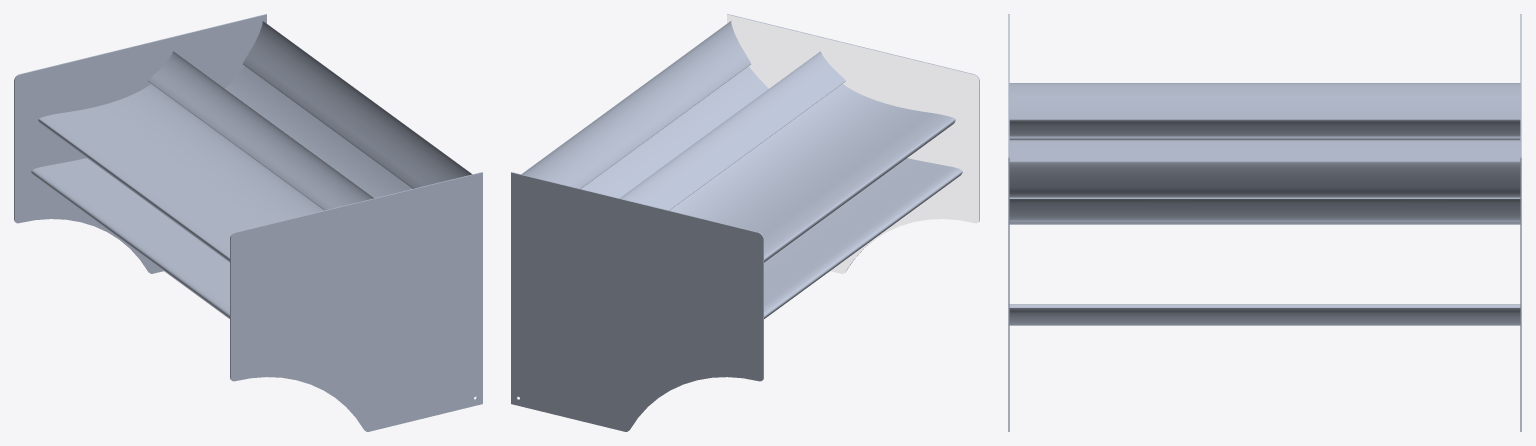
Rendered from flame-5-r.9.glb.
3 renders of one model, left to right at view 1: azimuth 30°, elevation 25°; view 2: azimuth 150°, elevation 25°; view 3: azimuth 270°, elevation 25°, orthographic. The views are drawn at different scales.
Visible parts, largest first — view 1: R.9; view 2: R.9; view 3: R.9.
Boxes of the visible parts, <box> form: R.9: <box>14,14,482,431</box>; R.9: <box>511,14,979,431</box>; R.9: <box>1008,14,1521,431</box>.
Bounding box in the file's own units: 0.6185 × 0.5426 × 0.9199.
